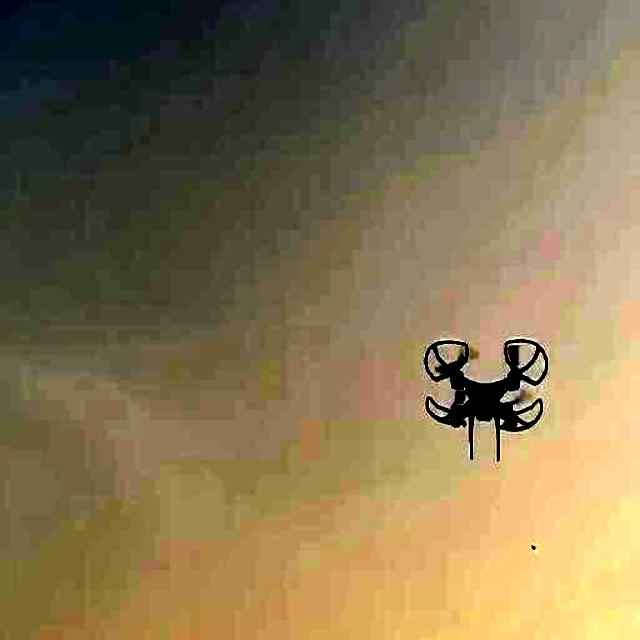bird: (425, 311, 548, 474)
